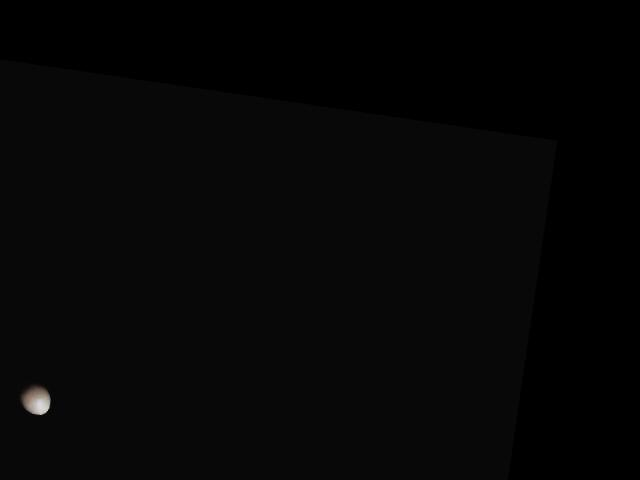egg: (15, 379, 52, 416)
